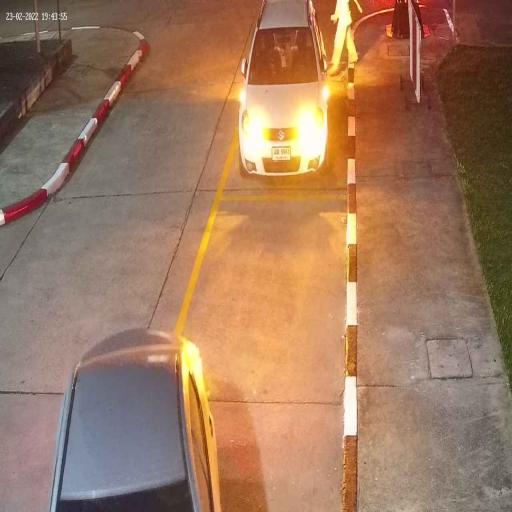car: (48, 325, 223, 512), (237, 0, 332, 179)
